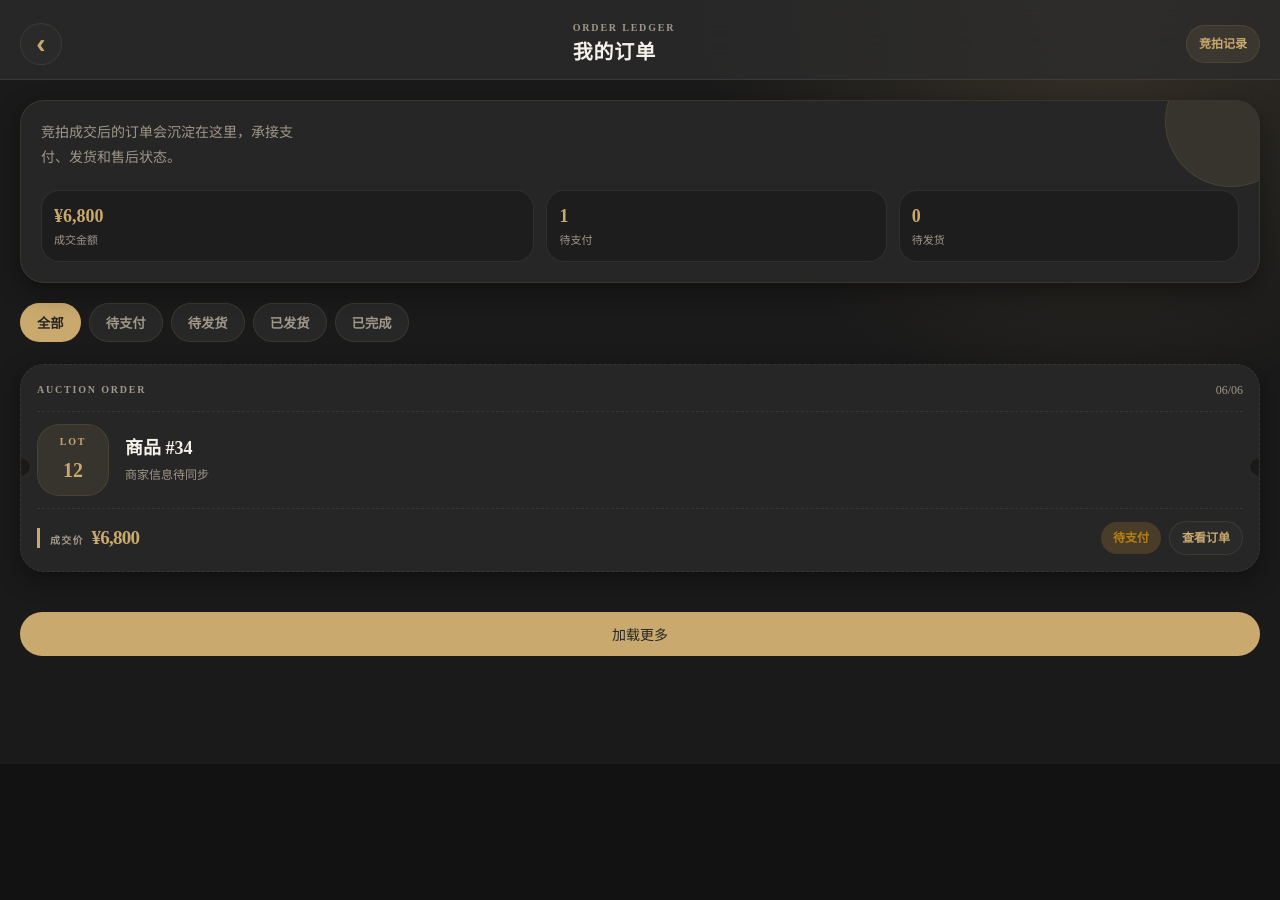
Scenario: OrderList page › loads the next backend page when more orders are available
This screenshot has width=1280, height=900.
Check: the heading "商品 #34" is shown, box top-left (125, 438), bottom-right (192, 458)
Click the button "加载更多" at (640, 634), box top-left (20, 612), bottom-right (1260, 656)
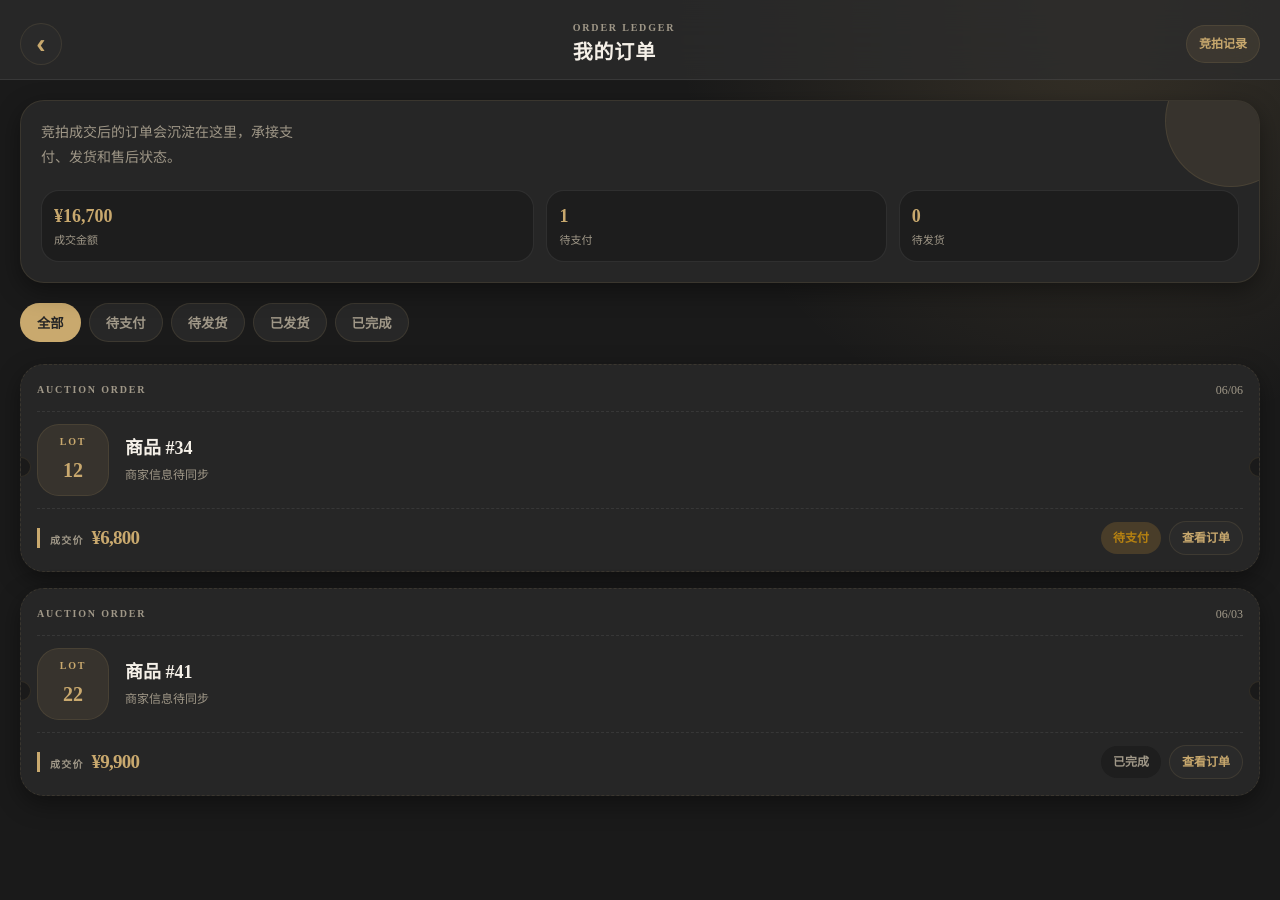
Check: the heading "商品 #41" is shown, box top-left (125, 662), bottom-right (192, 682)
